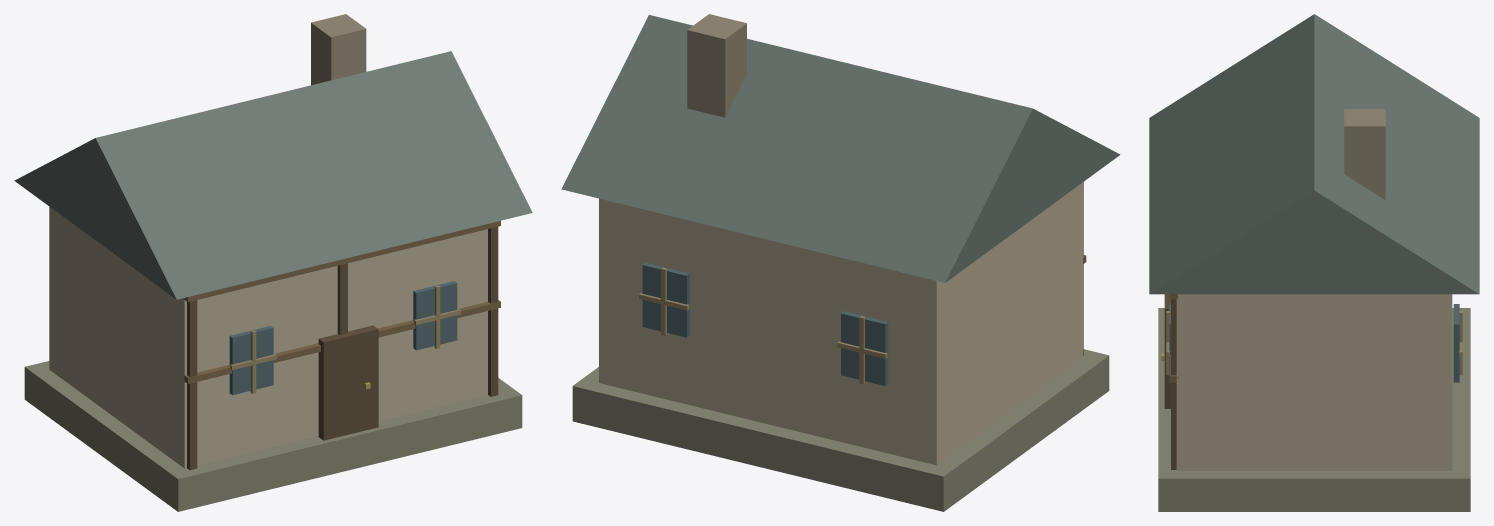
File: cottage.glb
The picture shows the model from 3 angles, left to right: view 1: azimuth 30°, elevation 25°; view 2: azimuth 150°, elevation 25°; view 3: azimuth 270°, elevation 25°; orthographic projection. The views are drawn at different scales.
Parts seen in each view (by area): view 1: cottage; view 2: cottage; view 3: cottage.
Boxes of the visible parts, left/top/right/bottom form: cottage: left=14, top=14, right=532, bottom=511; cottage: left=561, top=14, right=1120, bottom=511; cottage: left=1149, top=14, right=1479, bottom=511.
Size of the model in its own units: 9.1 by 8.5 by 7.2.
